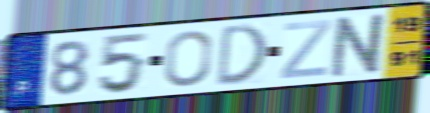5: (97, 30, 152, 95)
8: (49, 39, 90, 98)
D: (214, 21, 270, 89)
N: (328, 10, 392, 80)
O: (162, 28, 214, 89)
Z: (278, 17, 334, 80)
